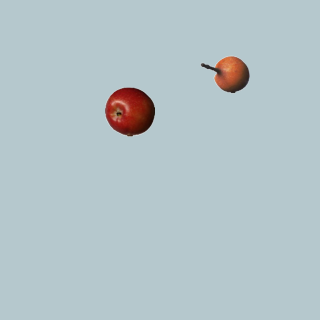Apple Braeburn: (104, 86, 154, 136)
Granadilla: (199, 49, 249, 99)
